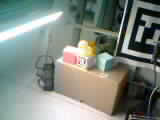duck: (63, 35, 99, 67)
